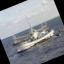fishing boat: (5, 11, 58, 56)
